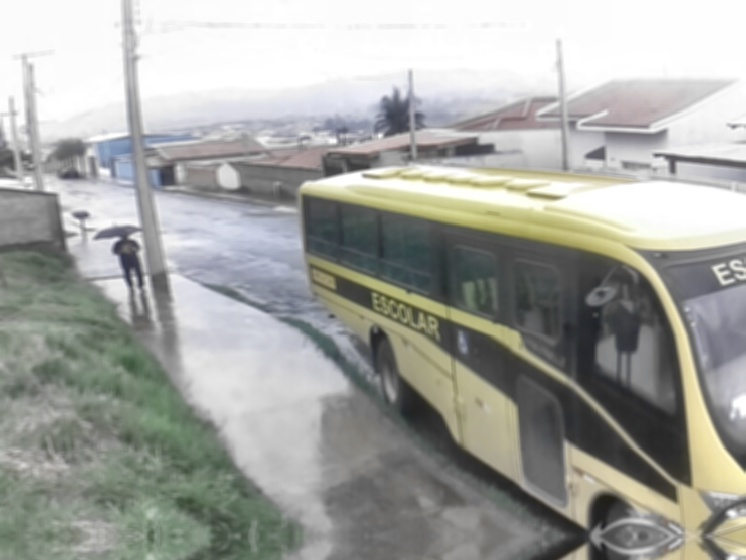person: (111, 233, 151, 291)
